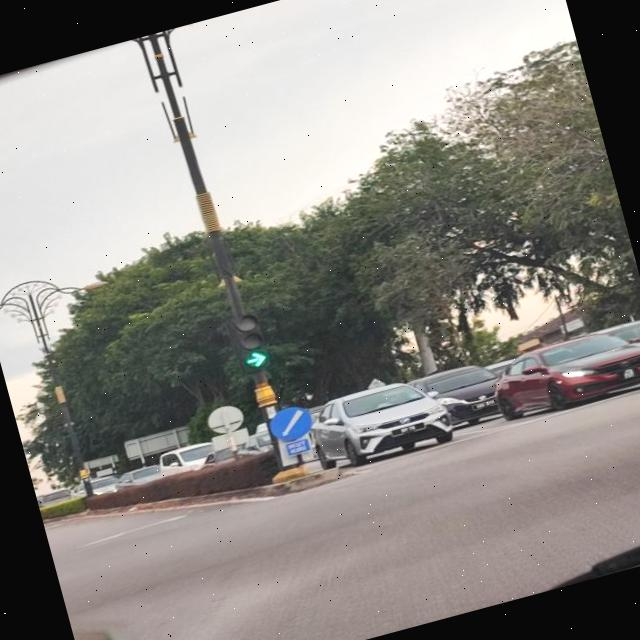green_light: (230, 310, 273, 378)
